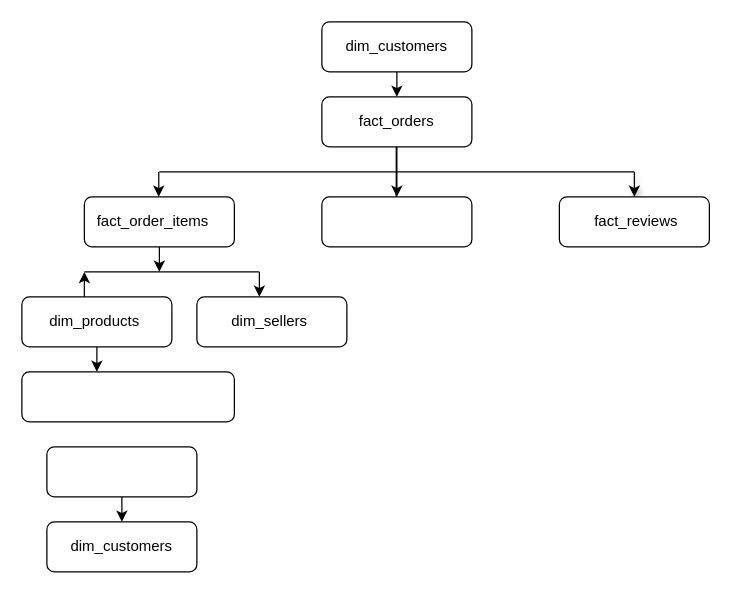
The diagram is 731 pixels wide and 594 high, and some of its shapes have lost their labels. Each missing label, with the centre of its shape:
"dim_geolocation" goes at point (121, 471).
"fact_payments" goes at point (396, 221).
"product_category_translation" goes at point (127, 396).
